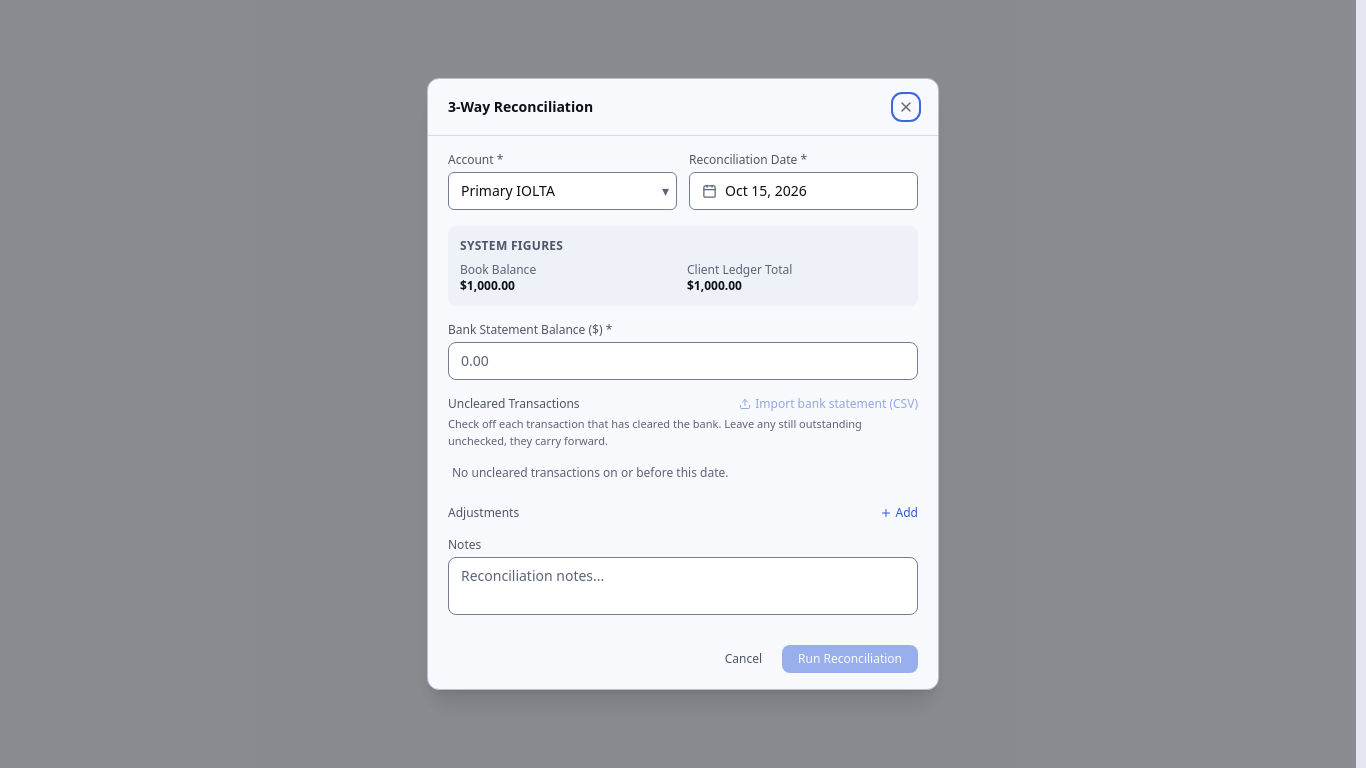
Scenario: signed money in the reconciliation › refuses an exponent rather than reading 1e3 as a thousand dollars, and shows no verdict for it
Expected: the text "Book Balance" is shown, [460,261,536,278]
Step 1. Type "1e3" into the number field labelled "Bank Statement Balance ($) *" → (683, 361), box [448,342,918,380]
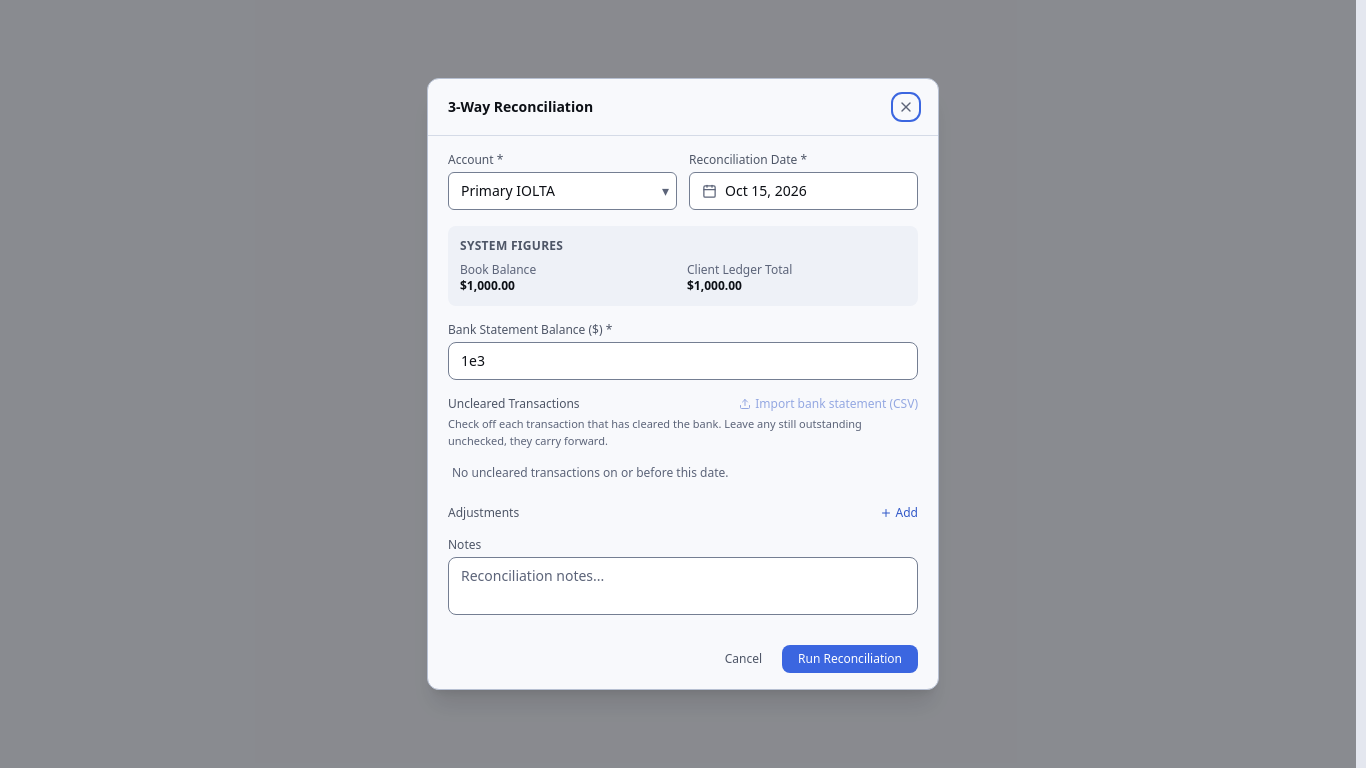
Step 2. Click the button "Run Reconciliation" → (850, 659), box [782,645,918,673]
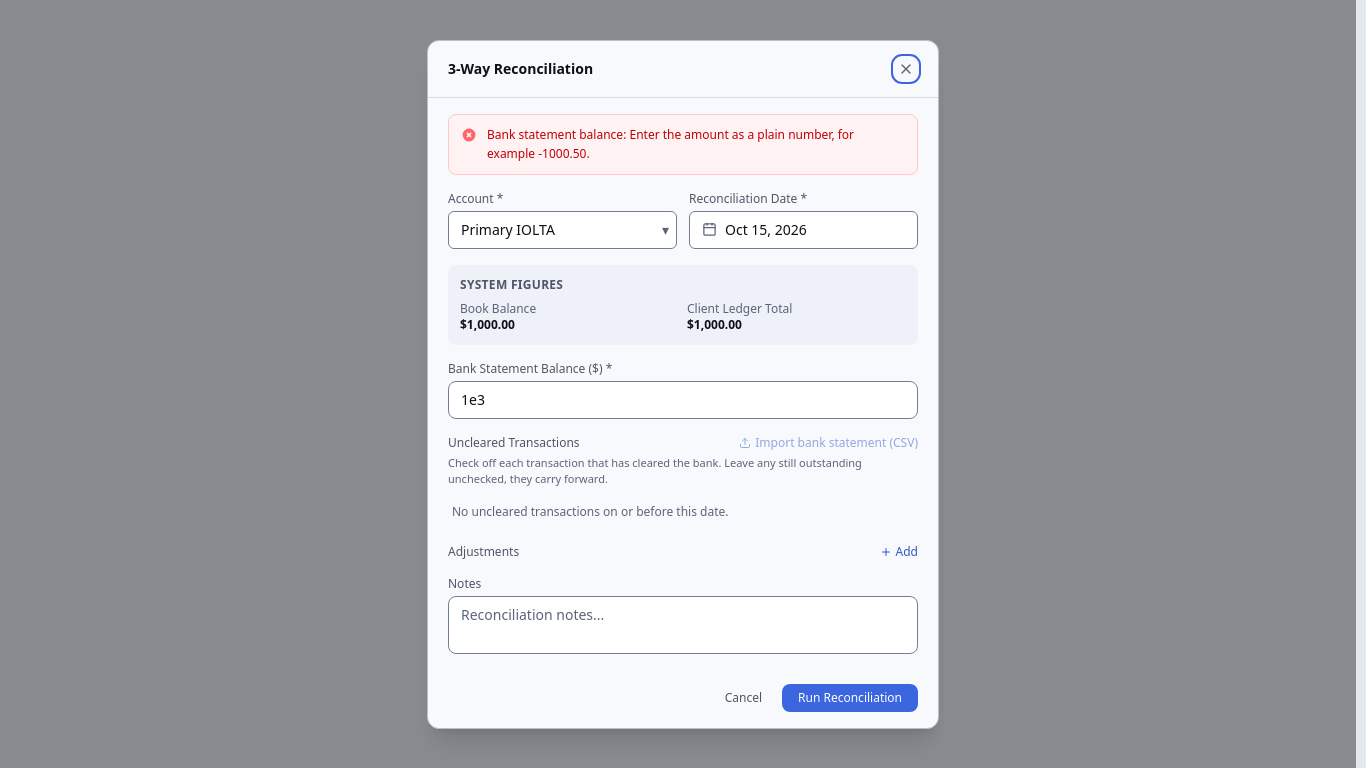
Now the text "Bank statement balance: Enter the amount as a plain number, for example -1000.50." is shown, box [487,126,854,162]
